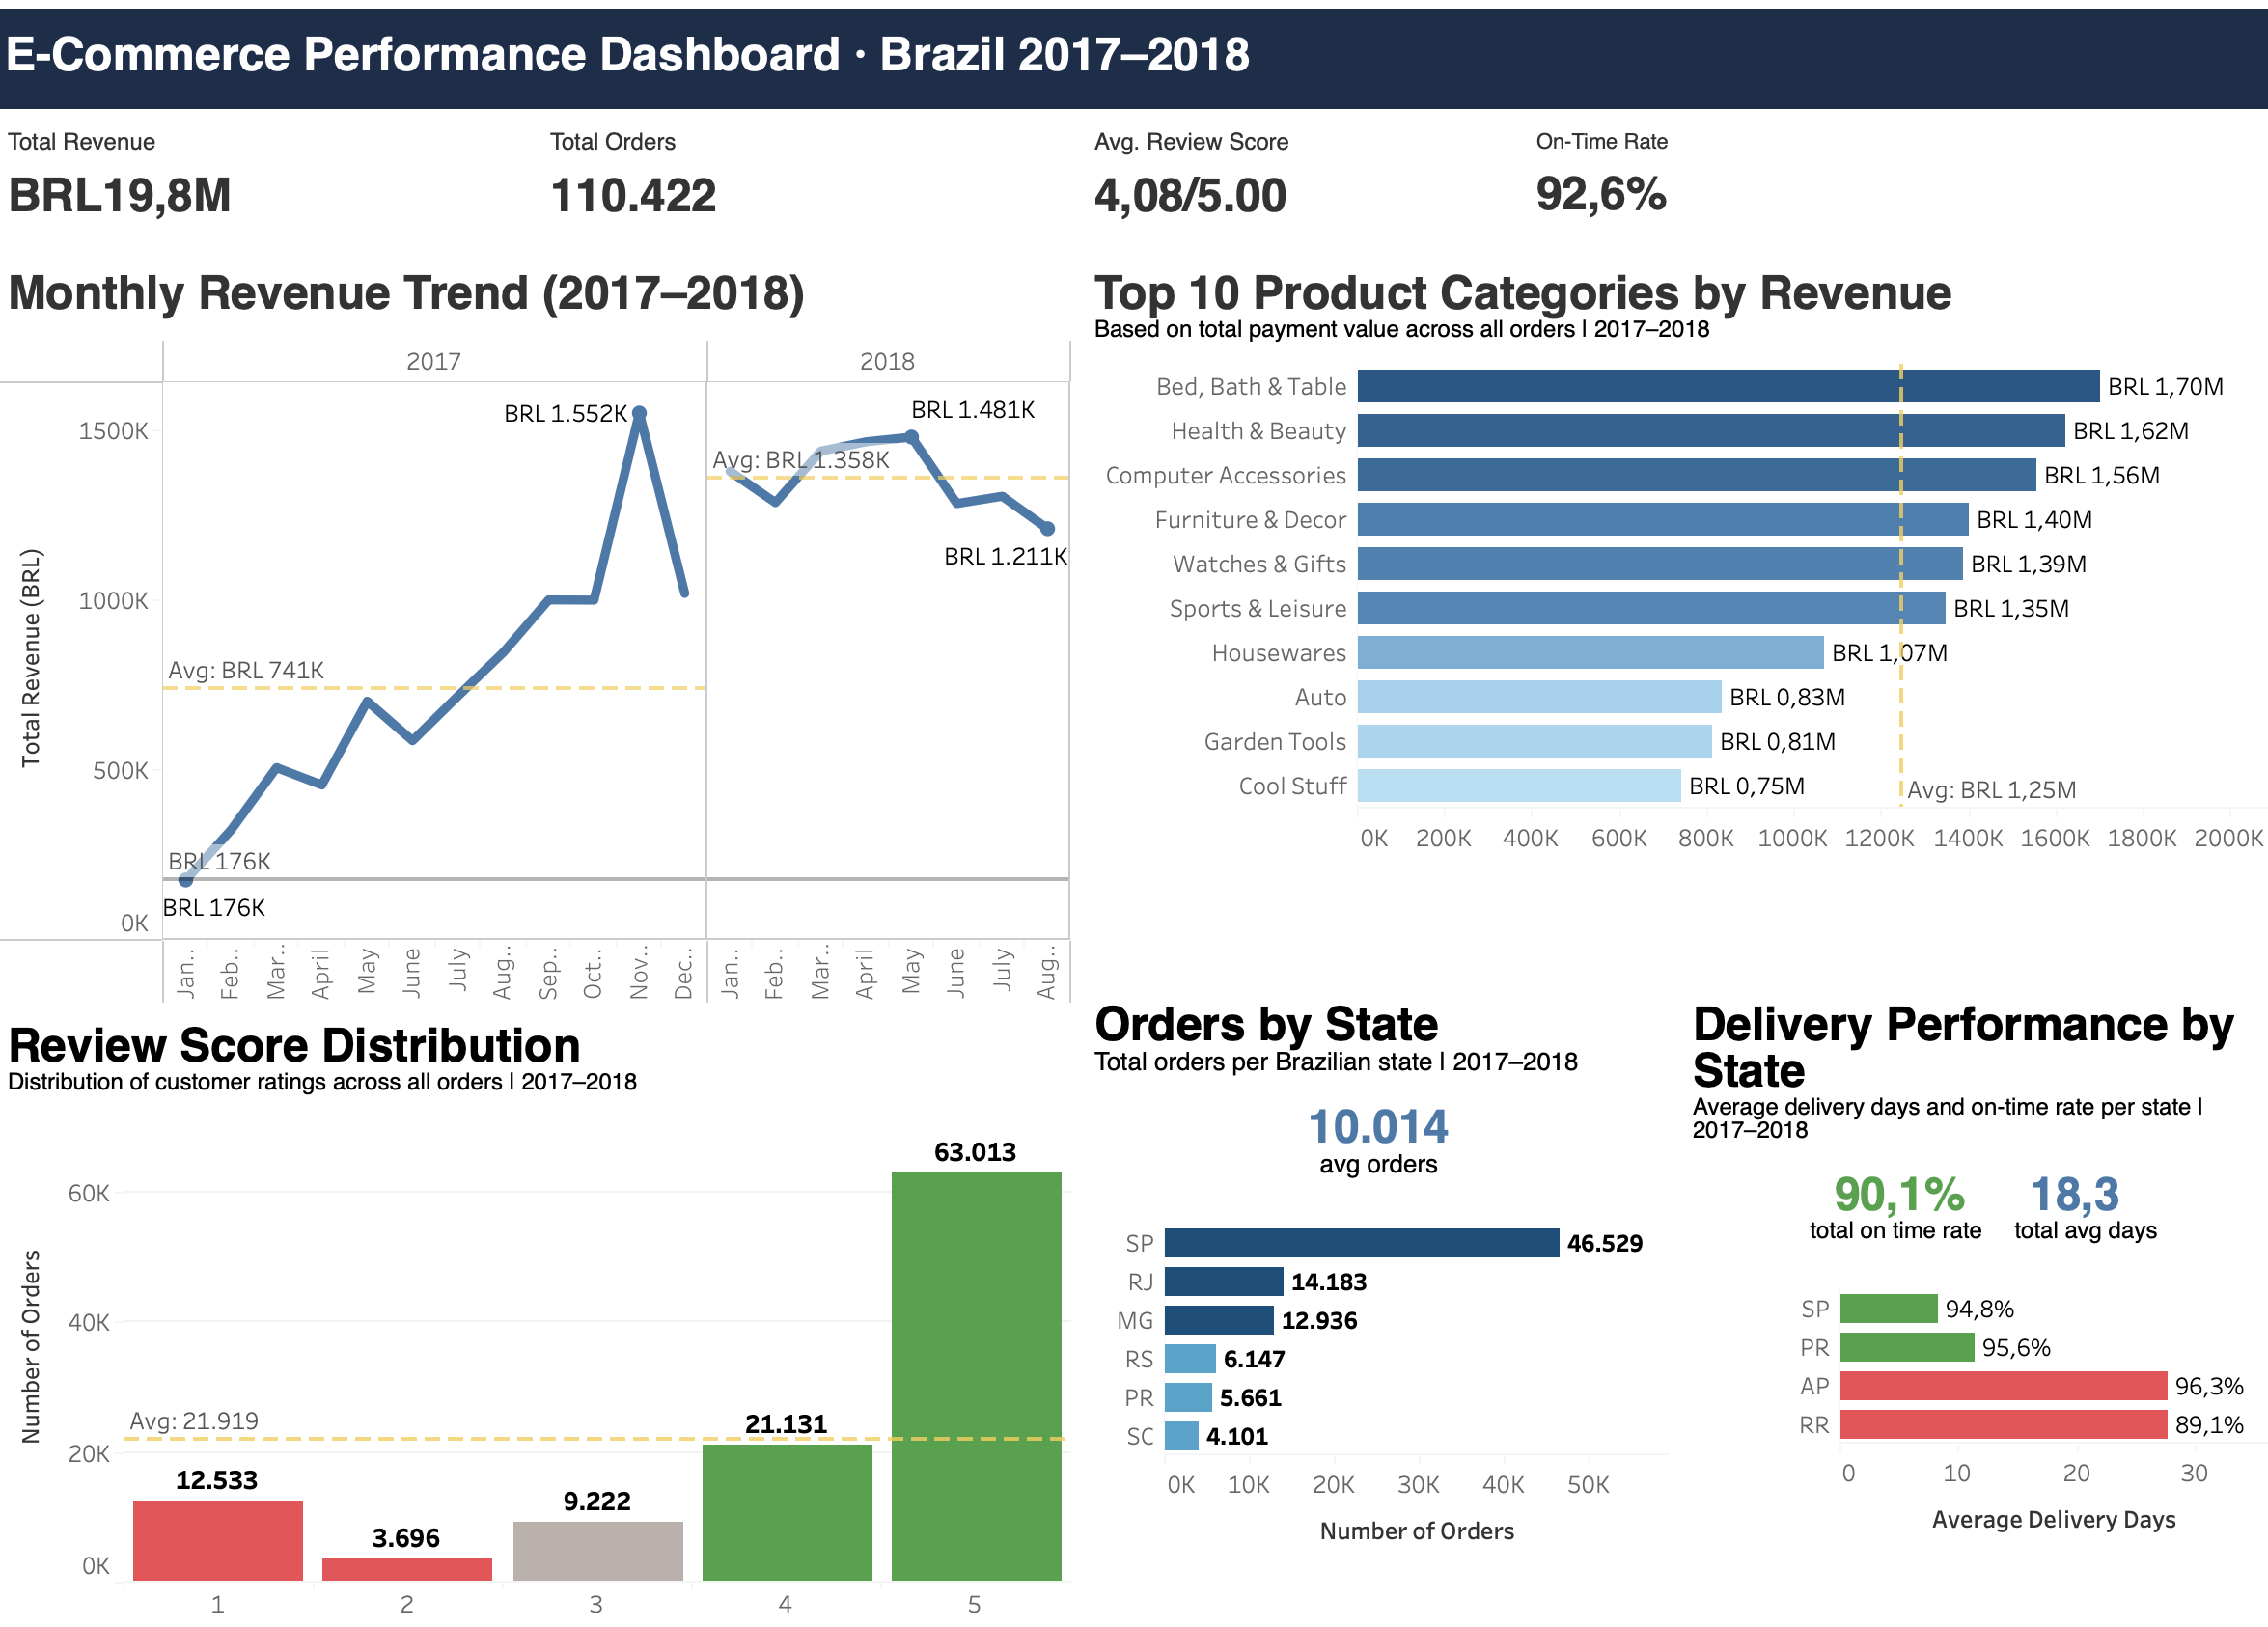

What the dashboard file says about the page in this screenshot:
{"tool":"tableau","page":{"name":"E-Commerce Sales Analysis Dashboard","canvas":[1000,1000],"units":"permille","ordinal":0},"visuals":[{"type":"text","box":[6.7,9.4,986.7,69.4]},{"type":"worksheet","title":"KPI - Total Revenue","mark":"Text","box":[6.7,78.8,234.6,84.7]},{"type":"worksheet","title":"KPI - Total Orders","mark":"Text","box":[241.2,78.8,234.6,84.7]},{"type":"worksheet","title":"KPI - Avg. Review Score","mark":"Text","box":[475.8,78.8,190.9,84.7]},{"type":"worksheet","title":"KPI - On-Time Rate","mark":"Text","box":[666.7,78.8,326.7,84.7]},{"type":"worksheet","title":"Revenue Trend","mark":"Line","rows":["payment_value"],"cols":["order_purchase_timestamp","order_purchase_timestamp"],"box":[6.7,163.5,469.1,454.1]},{"type":"worksheet","title":"Top Categories","mark":"Bar","rows":["product_category_name"],"cols":["payment_value"],"box":[475.8,163.5,517.5,441.2]},{"type":"worksheet","title":"Orders by State","mark":"Bar","rows":["customer_state"],"cols":["order_id"],"box":[475.8,604.7,258.8,385.9]},{"type":"worksheet","title":"Delivery Performance","mark":"Bar","rows":["customer_state"],"cols":["delivery_days"],"box":[734.6,604.7,258.8,385.9]},{"type":"worksheet","title":"Review Distribution","mark":"Bar","rows":["order_id"],"cols":["review_score"],"box":[6.7,617.6,469.1,372.9]}]}

Visuals, with their boxes on the dashboard's canvas, which has no fixed pixel size, in thousandths of its width and height (x1, y1, x2, y2). These are canvas units, not pixel positions in the 2268x1627 screenshot, which may show the page scaled, cropped or inside an application window:
text: [7, 9, 993, 79]
"KPI - Total Revenue" worksheet (Text marks): [7, 79, 241, 164]
"KPI - Total Orders" worksheet (Text marks): [241, 79, 476, 164]
"KPI - Avg. Review Score" worksheet (Text marks): [476, 79, 667, 164]
"KPI - On-Time Rate" worksheet (Text marks): [667, 79, 993, 164]
"Revenue Trend" worksheet (Line marks): [7, 164, 476, 618]
"Top Categories" worksheet (Bar marks): [476, 164, 993, 605]
"Orders by State" worksheet (Bar marks): [476, 605, 735, 991]
"Delivery Performance" worksheet (Bar marks): [735, 605, 993, 991]
"Review Distribution" worksheet (Bar marks): [7, 618, 476, 990]
